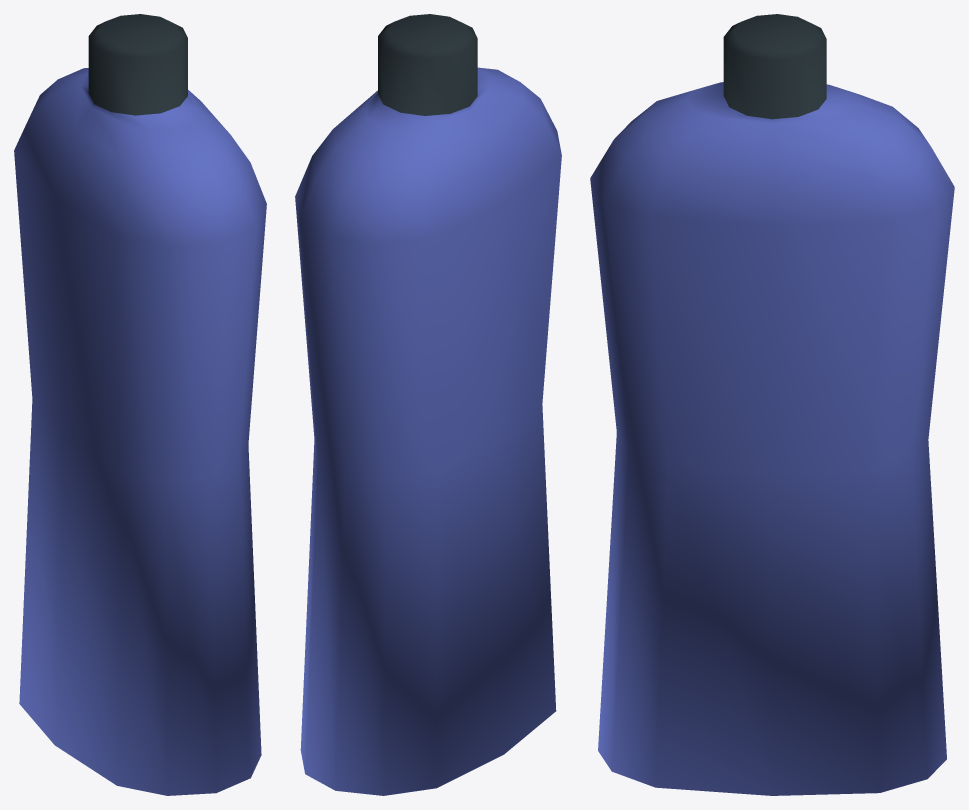
Rendered from Bottle_04_.fbx.
The picture shows the model from 3 angles, left to right: view 1: azimuth 30°, elevation 25°; view 2: azimuth 150°, elevation 25°; view 3: azimuth 270°, elevation 25°; orthographic projection. The views are drawn at different scales.
Parts seen in each view (by area): view 1: Bottle_04; view 2: Bottle_04; view 3: Bottle_04.
Part boxes in pixels (bbox=[...]): Bottle_04: bbox=[14, 14, 266, 795]; Bottle_04: bbox=[295, 14, 561, 795]; Bottle_04: bbox=[590, 14, 954, 795].
Bounding box in the file's own units: 12.09 × 47.8 × 21.84.
